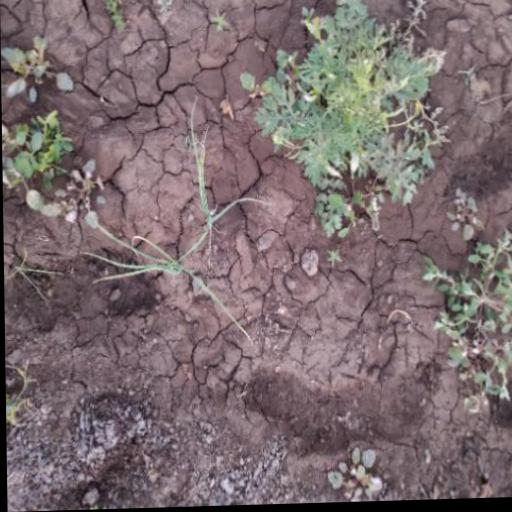weed: (245, 0, 450, 240), (0, 40, 95, 237), (426, 201, 512, 416)
